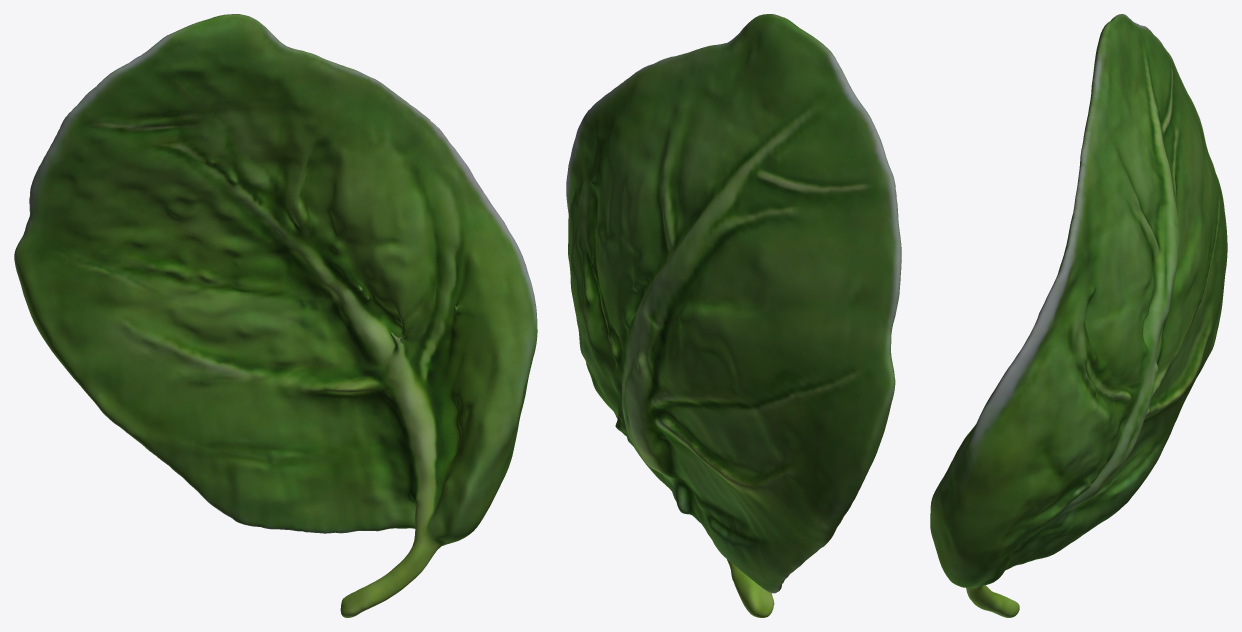
Rendered from 191a4fb9b64b_A_single__standalon.fbx.
The picture shows the model from 3 angles, left to right: view 1: azimuth 30°, elevation 25°; view 2: azimuth 150°, elevation 25°; view 3: azimuth 270°, elevation 25°; orthographic projection. The views are drawn at different scales.
Visible parts, largest first — view 1: high_poly; view 2: high_poly; view 3: high_poly.
Part boxes in pixels (x1,y1,x2,y2): high_poly: (14,14,537,617); high_poly: (566,14,901,617); high_poly: (930,14,1227,617).
Size of the model in its own units: 71.73 by 100 by 48.17.
